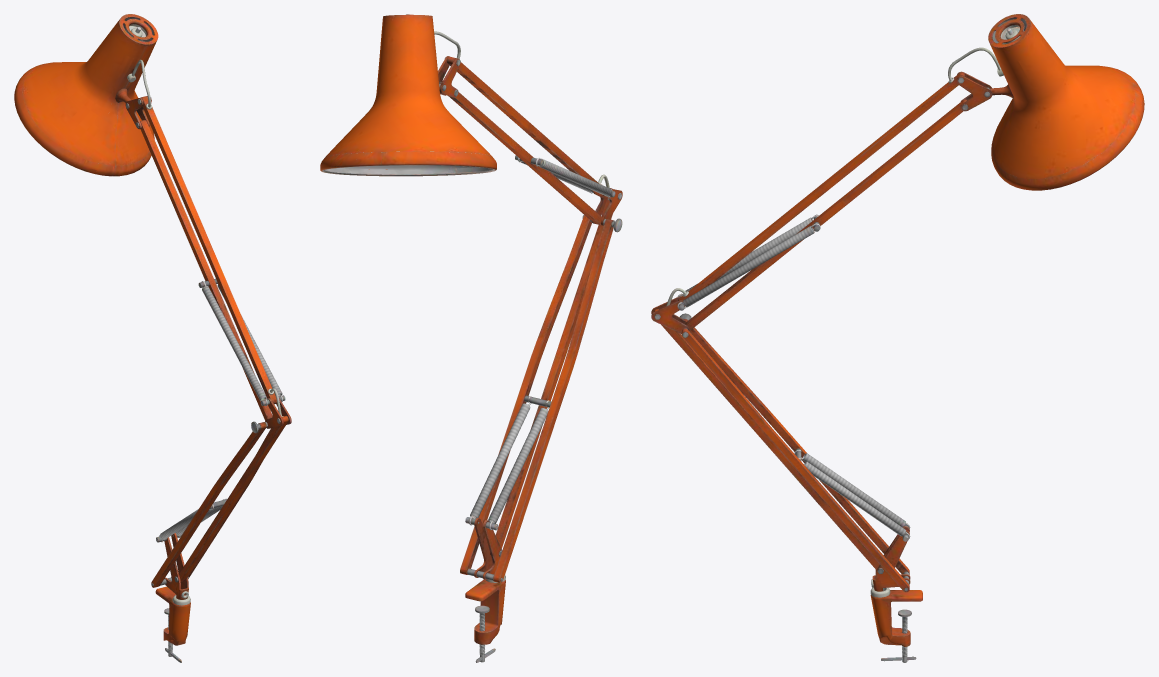
Rendered from desk-lamp.glb.
3 views of the same model, side by side, from view 1: azimuth 30°, elevation 25°; view 2: azimuth 150°, elevation 25°; view 3: azimuth 270°, elevation 25° (orthographic). The views are drawn at different scales.
Parts seen in each view (by area): view 1: desk_lamp_arm_01; view 2: desk_lamp_arm_01; view 3: desk_lamp_arm_01.
Boxes of the visible parts, left/top/right/bottom form: desk_lamp_arm_01: left=14, top=14, right=291, bottom=662; desk_lamp_arm_01: left=320, top=14, right=622, bottom=662; desk_lamp_arm_01: left=651, top=14, right=1144, bottom=662.
Bounding box in the file's own units: 0.2018 × 0.8926 × 0.6139.
2 materials, 2 textured.
